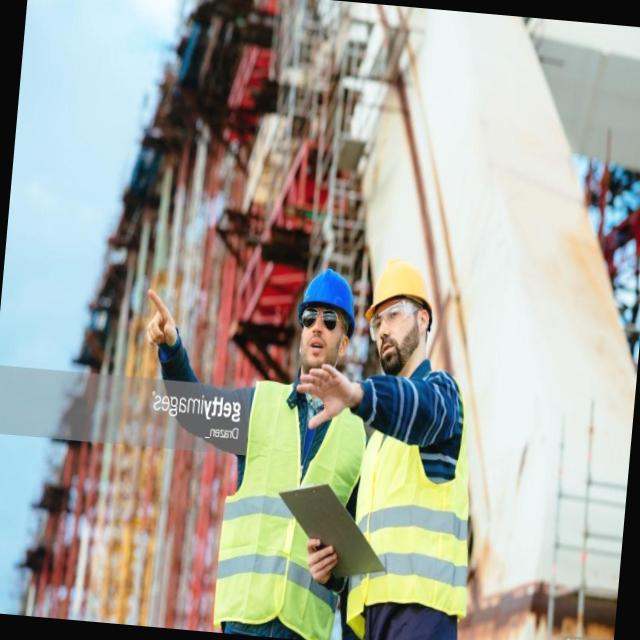helmet: (362, 257, 438, 335), (295, 265, 360, 332)
vest: (212, 390, 343, 640), (336, 428, 471, 620)
